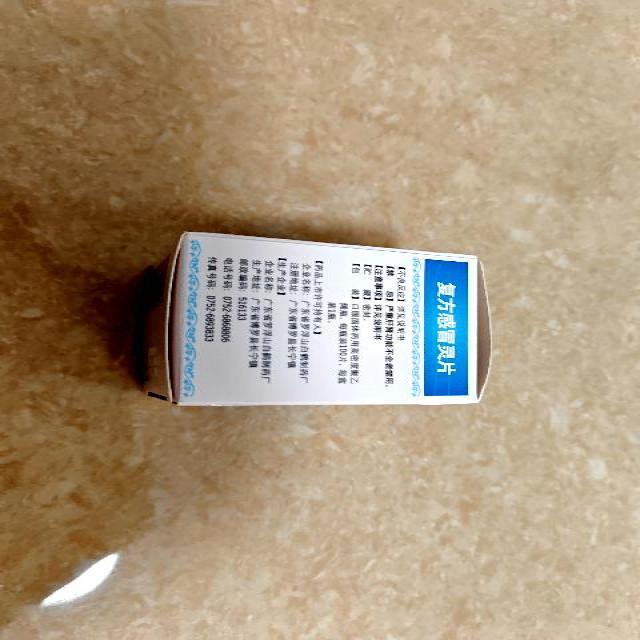box: (140, 229, 492, 407)
